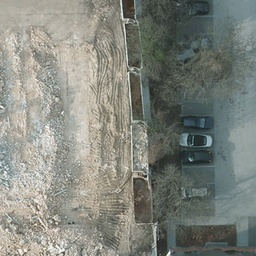car: (180, 115, 211, 131), (179, 132, 213, 146), (179, 1, 208, 17), (180, 184, 210, 199), (179, 150, 213, 163)
